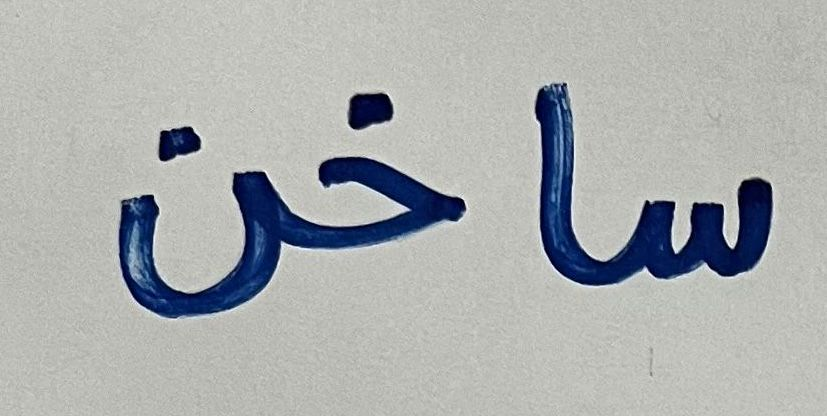alef: (496, 45, 597, 322)
khah: (298, 40, 482, 311)
noon: (81, 58, 292, 340)
seen: (603, 100, 805, 345)
